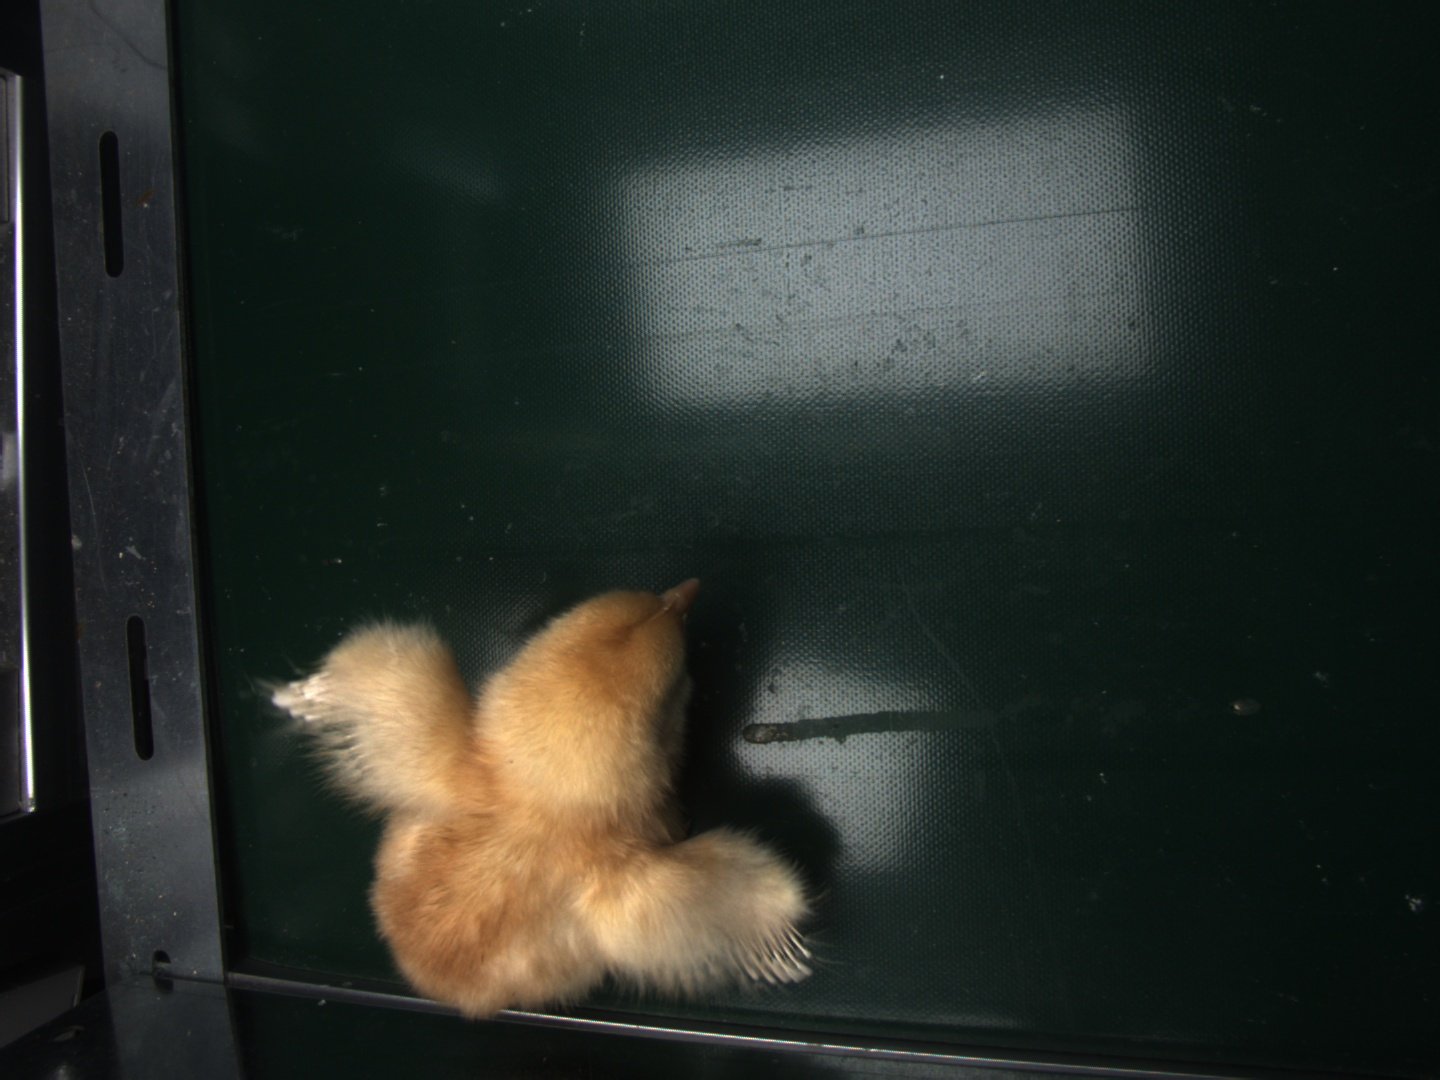female: (738, 923, 814, 984)
